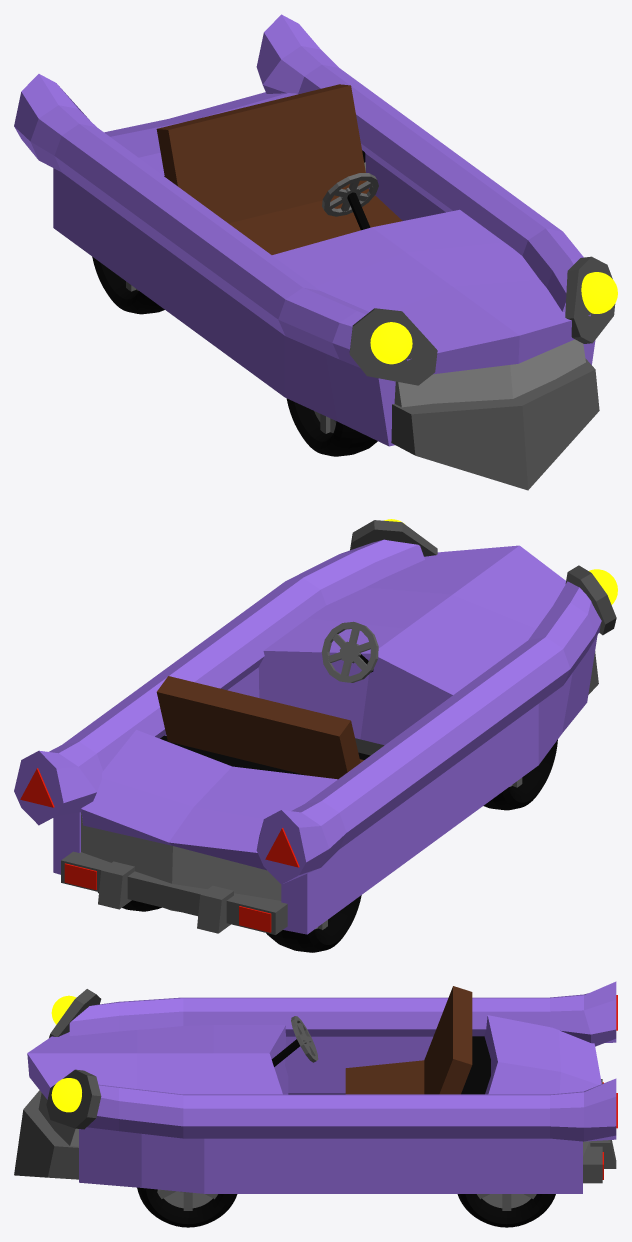
File: coolcar.fbx
The picture shows the model from 3 angles, top to bottom: view 1: azimuth 30°, elevation 25°; view 2: azimuth 150°, elevation 25°; view 3: azimuth 270°, elevation 25°; orthographic projection. The views are drawn at different scales.
Visible parts, largest first — view 1: Cube, Cylinder.001, Cube.001, Cube.012, Cylinder.002, Cube.003, Cube.002, Cube.013, Cylinder.003, Cube.007, Cylinder, Cube.006 (+5 smaller); view 2: Cube, Cylinder.001, Cylinder.002, Cube.001, Cube.007, Cube.012, Cube.008, Cube.009, Torus.001, Cube.006, Torus, Cylinder (+10 smaller); view 3: Cube.006, Cylinder.002, Cylinder.001, Cube, Cube.007, Cube.001, Cube.012, Cube.003, Cube.013, Torus.003, Torus.002, Cylinder (+11 smaller).
Boxes of the visible parts, box(x1,y1,x2,y2) form: Cube: box(272, 209, 590, 374); Cylinder.001: box(14, 74, 368, 367); Cube.001: box(53, 168, 395, 446); Cube.012: box(156, 84, 368, 223); Cylinder.002: box(256, 14, 583, 311); Cube.003: box(391, 358, 599, 490); Cube.002: box(394, 339, 585, 407); Cube.013: box(228, 189, 402, 254); Cylinder.003: box(349, 308, 437, 385); Cube.007: box(104, 92, 297, 175); Cylinder: box(565, 256, 615, 343); Cube.006: box(365, 153, 595, 364); Cube: box(258, 545, 565, 745); Cylinder.001: box(256, 581, 601, 884); Cylinder.002: box(14, 539, 424, 825); Cube.001: box(281, 635, 597, 934); Cube.007: box(81, 730, 337, 870); Cube.012: box(156, 676, 360, 779); Cube.008: box(81, 812, 281, 911); Cube.009: box(61, 851, 287, 934); Torus.001: box(266, 895, 361, 952); Cube.006: box(53, 667, 259, 874); Torus: box(483, 739, 557, 810); Cylinder: box(350, 520, 437, 556); Cube.006: box(79, 1127, 582, 1193); Cylinder.002: box(87, 1078, 616, 1141); Cylinder.001: box(69, 981, 616, 1046); Cube: box(27, 1025, 288, 1099); Cube.007: box(484, 1015, 601, 1094); Cube.001: box(285, 1036, 432, 1093); Cube.012: box(424, 986, 472, 1094); Cube.003: box(14, 1090, 78, 1179); Cube.013: box(345, 1060, 424, 1094); Torus.003: box(137, 1187, 237, 1227); Torus.002: box(457, 1194, 555, 1227); Cylinder: box(46, 1069, 101, 1129).
Size of the model in its own units: 15092 by 10071 by 32233.
